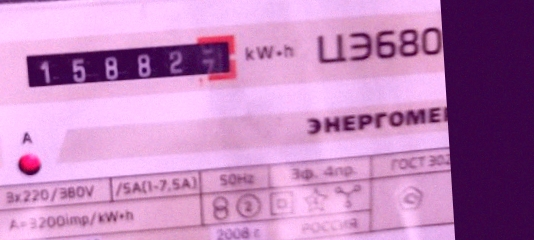1: (37, 58, 53, 84)
2: (167, 48, 183, 73)
5: (69, 55, 87, 82)
7: (200, 54, 215, 74)
8: (102, 54, 120, 81), (135, 51, 152, 77)
screen: (10, 26, 246, 103)
